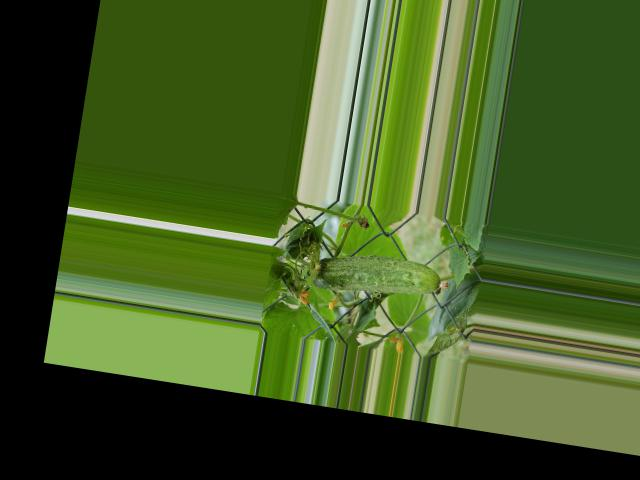cucumber: (306, 245, 450, 306)
